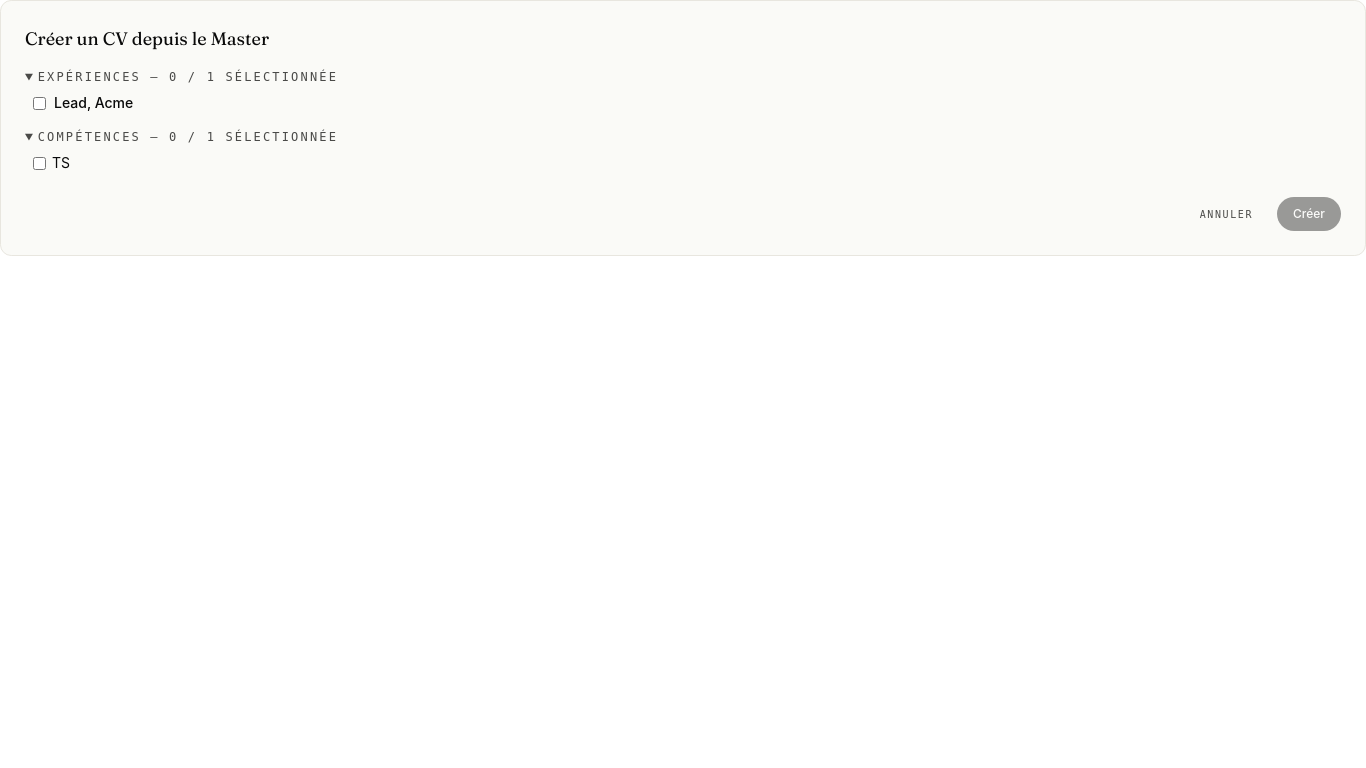
Test: MasterCvPicker › counters update as user checks items
The image size is (1366, 768).
Step 1. Click the checkbox labelled "Lead, Acme" → (40, 103), box top-left (33, 96), bottom-right (46, 110)
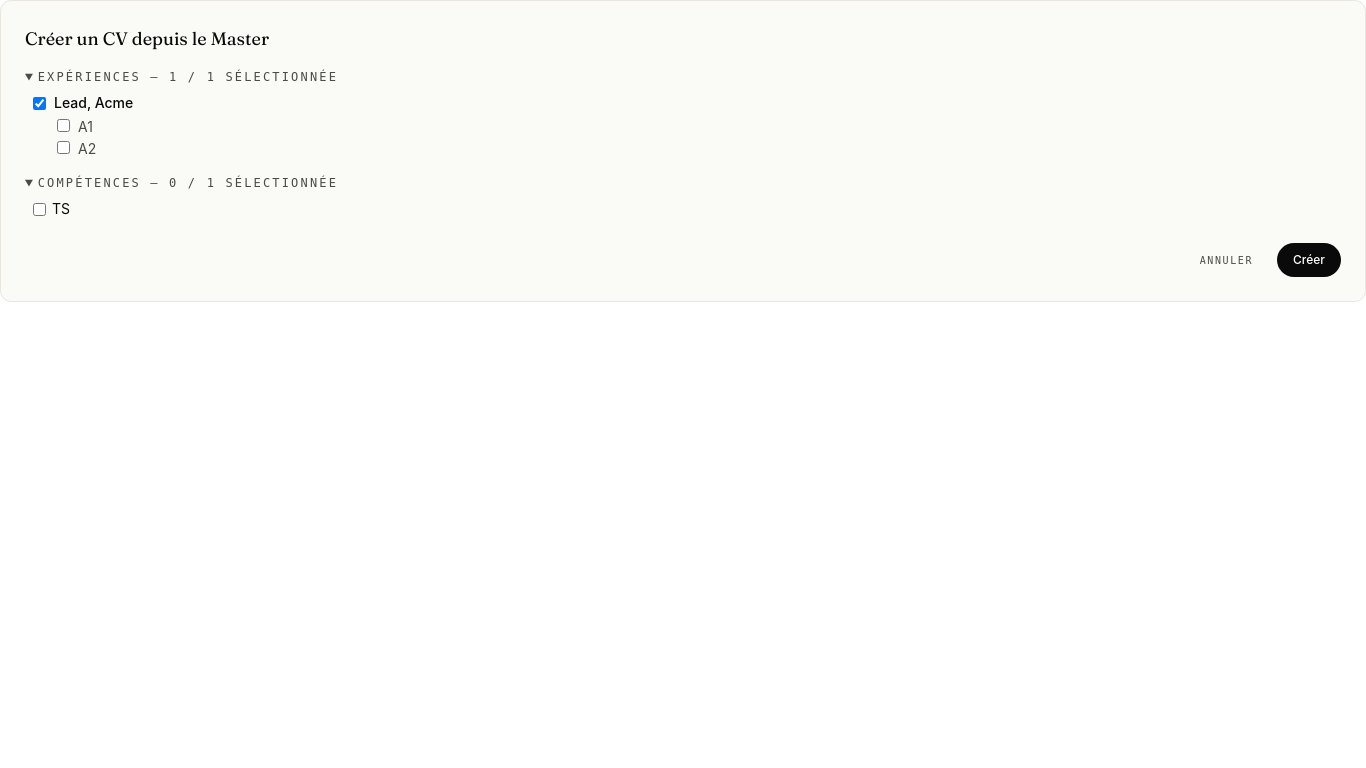
Expected: the text "1 / 1 sélectionnée" is shown, top-left (169, 70), bottom-right (338, 84)
